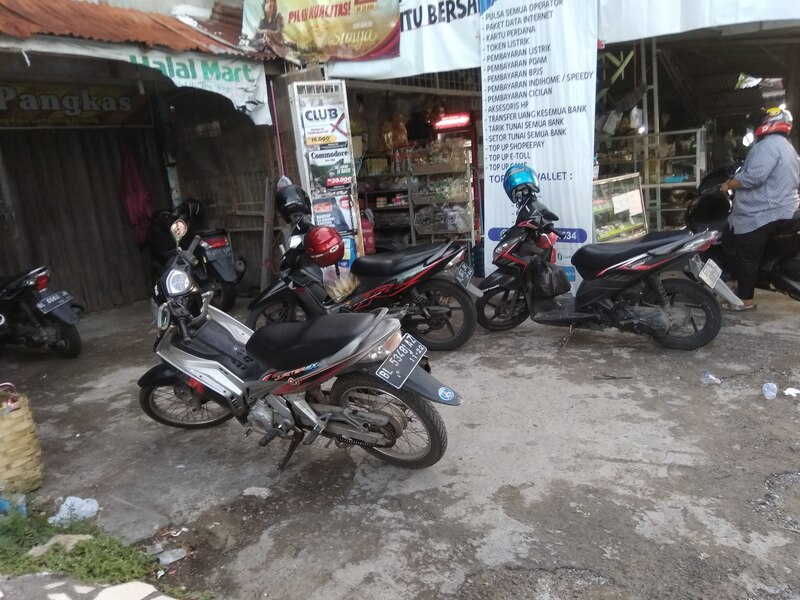motorcycle: (135, 216, 466, 475), (477, 176, 749, 356), (244, 213, 482, 354), (680, 164, 800, 307), (146, 202, 251, 313), (1, 263, 91, 363)
